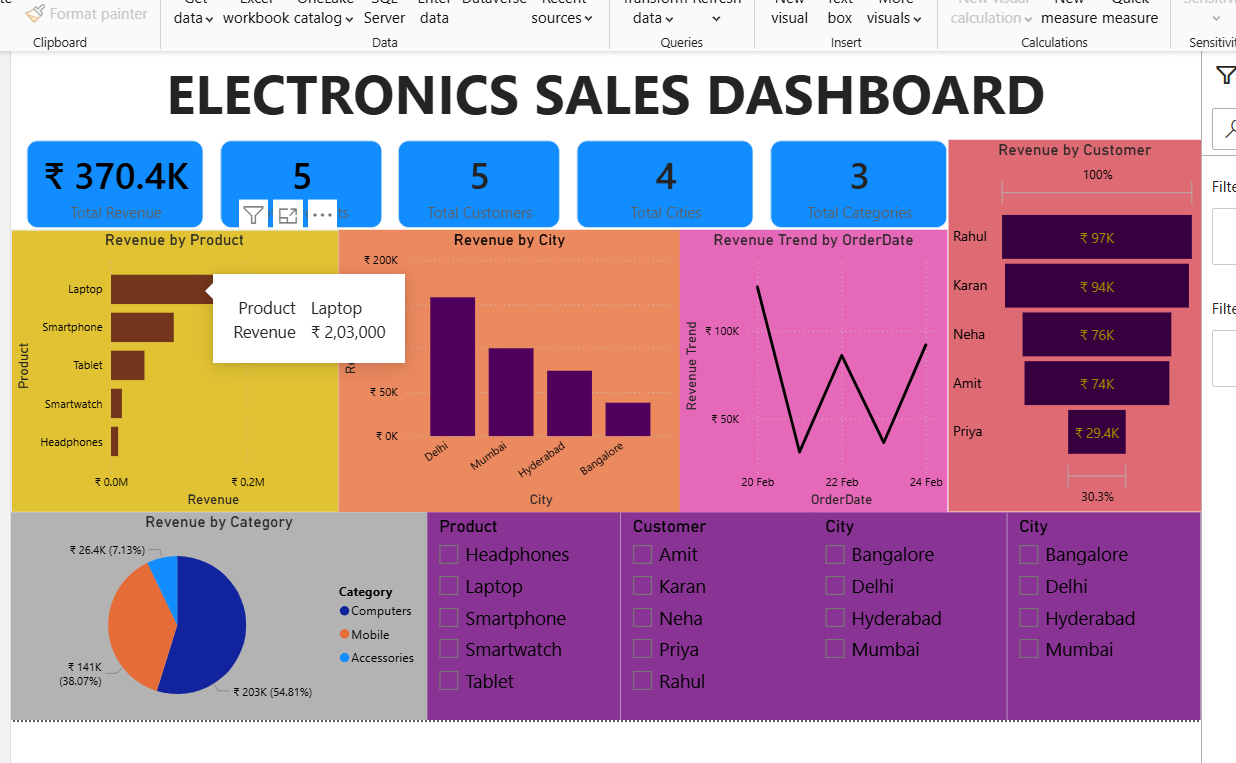

Layout of this report page (visuals, bound fields, positions):
{"tool":"powerbi","page":{"name":"Page 1","canvas":[1280,720],"ordinal":0},"visuals":[{"type":"cardVisual","fields":{"Data":["Sum(Dataset.Revenue)"]},"box":[0,80,224,128],"z":0},{"type":"cardVisual","fields":{"Data":["Count(Dataset.Product)"]},"box":[208,80,208,128],"z":1},{"type":"cardVisual","fields":{"Data":["Count(Dataset.Customer)"]},"box":[400,80,208,128],"z":2},{"type":"cardVisual","fields":{"Data":["Count(Dataset.City)"]},"box":[592,80,224,128],"z":3},{"type":"cardVisual","fields":{"Data":["Count(Dataset.Category)"]},"box":[800,80,224,128],"z":4},{"type":"textbox","box":[0,0,1280,96],"z":5},{"type":"barChart","fields":{"Category":["Dataset.Product"],"Y":["Sum(Dataset.Revenue)"]},"box":[0,192,352,304],"z":6},{"type":"columnChart","fields":{"Category":["Dataset.City"],"Y":["Sum(Dataset.Revenue)"]},"box":[352,192,368,304],"z":7},{"type":"pieChart","fields":{"Category":["Dataset.Category"],"Y":["Sum(Dataset.Revenue)"]},"box":[0,496,448,224],"z":8},{"type":"lineChart","fields":{"Category":["Dataset.OrderDate"],"Y":["Sum(Dataset.Revenue)"]},"box":[720,192,288,304],"z":9},{"type":"funnel","fields":{"Category":["Dataset.Customer"],"Y":["Sum(Dataset.Revenue)"]},"box":[1008,96,272,400],"z":10},{"type":"slicer","fields":{"Values":["Dataset.City"]},"box":[864,496,208,224],"z":11},{"type":"slicer","fields":{"Values":["Dataset.Customer"]},"box":[656,496,208,224],"z":12},{"type":"slicer","fields":{"Values":["Dataset.Product"]},"box":[448,496,208,224],"z":13},{"type":"slicer","fields":{"Values":["Dataset.City"]},"box":[1072,496,208,224],"z":14}]}

Visuals, with their boxes on the page's 1280x720 design canvas (x1, y1, x2, y2). These are canvas units, not pixel positions in the 1236x763 screenshot, which may show the page scaled, cropped or inside an application window:
cardVisual - Sum(Dataset.Revenue): (x1=0, y1=80, x2=224, y2=208)
cardVisual - Count(Dataset.Product): (x1=208, y1=80, x2=416, y2=208)
cardVisual - Count(Dataset.Customer): (x1=400, y1=80, x2=608, y2=208)
cardVisual - Count(Dataset.City): (x1=592, y1=80, x2=816, y2=208)
cardVisual - Count(Dataset.Category): (x1=800, y1=80, x2=1024, y2=208)
textbox: (x1=0, y1=0, x2=1280, y2=96)
barChart - Dataset.Product x Sum(Dataset.Revenue): (x1=0, y1=192, x2=352, y2=496)
columnChart - Dataset.City x Sum(Dataset.Revenue): (x1=352, y1=192, x2=720, y2=496)
pieChart - Dataset.Category x Sum(Dataset.Revenue): (x1=0, y1=496, x2=448, y2=720)
lineChart - Dataset.OrderDate x Sum(Dataset.Revenue): (x1=720, y1=192, x2=1008, y2=496)
funnel - Dataset.Customer x Sum(Dataset.Revenue): (x1=1008, y1=96, x2=1280, y2=496)
slicer - Dataset.City: (x1=864, y1=496, x2=1072, y2=720)
slicer - Dataset.Customer: (x1=656, y1=496, x2=864, y2=720)
slicer - Dataset.Product: (x1=448, y1=496, x2=656, y2=720)
slicer - Dataset.City: (x1=1072, y1=496, x2=1280, y2=720)
